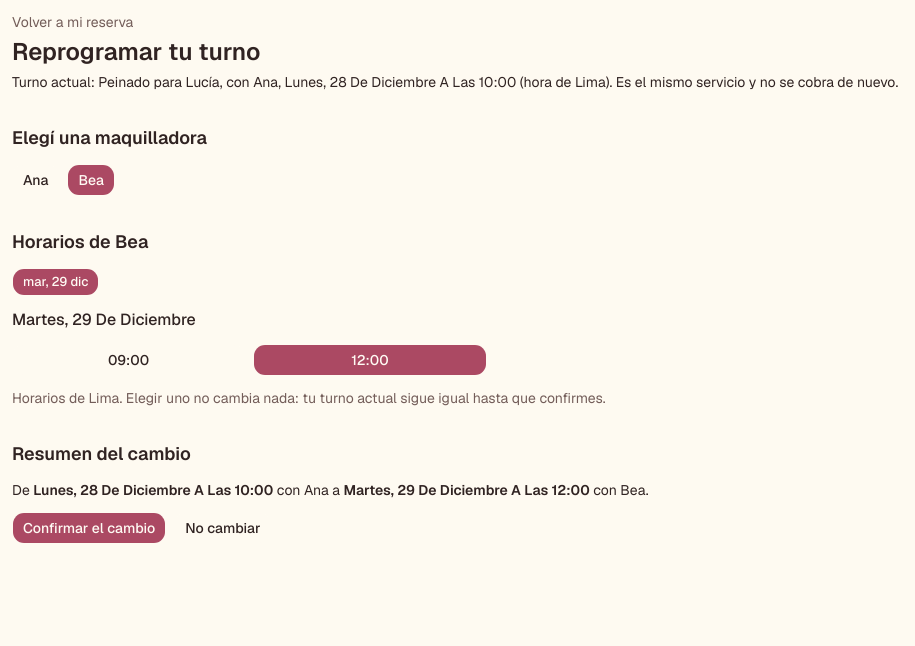
Test: PantallaReprogramacion: resumen y confirmación › si el horario ya no está disponible avisa, conserva maquilladora y día y ofrece ver los horarios de nuevo
The width and height of the screenshot is (915, 646).
Click the button "Confirmar el cambio". click: (89, 528)
box: [12, 512, 166, 544]
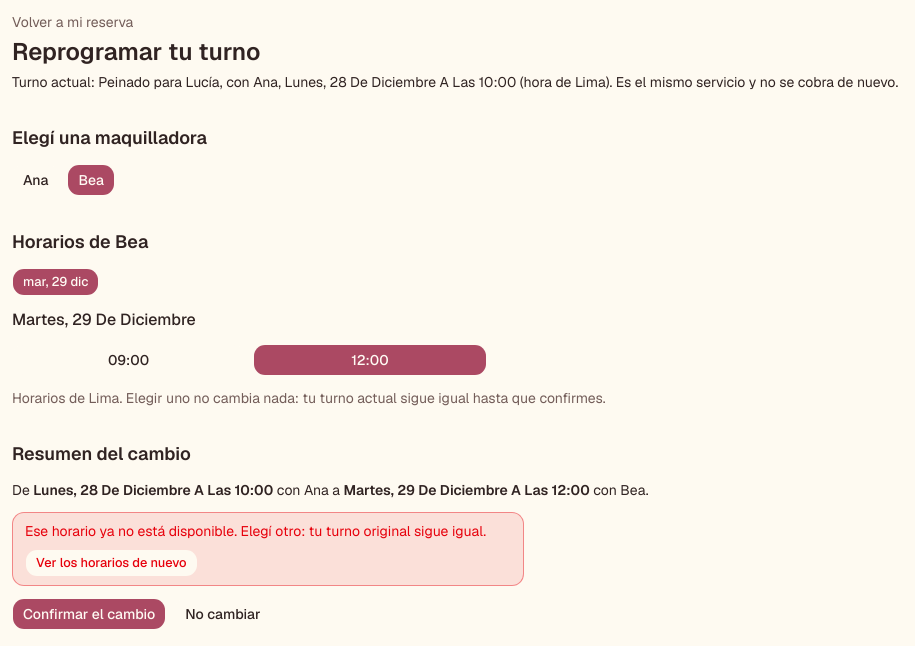
Expected: the heading "Horarios de Bea" is shown, [12, 230, 148, 253]
Expected: the message shows "tu turno original sigue igual", [25, 522, 486, 540]
